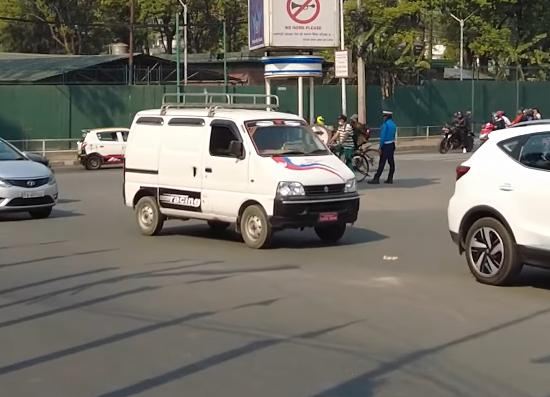car: (0, 131, 59, 223)
taxi: (77, 123, 134, 169)
van: (115, 86, 359, 258)
